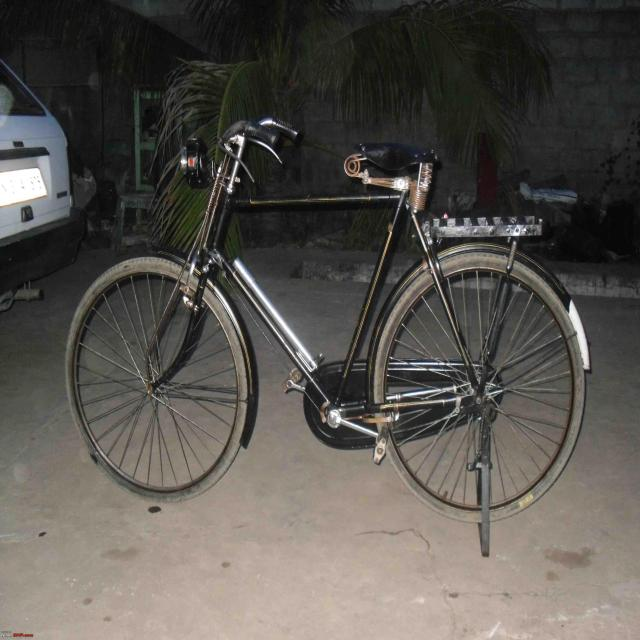bicycle: (66, 118, 590, 555)
